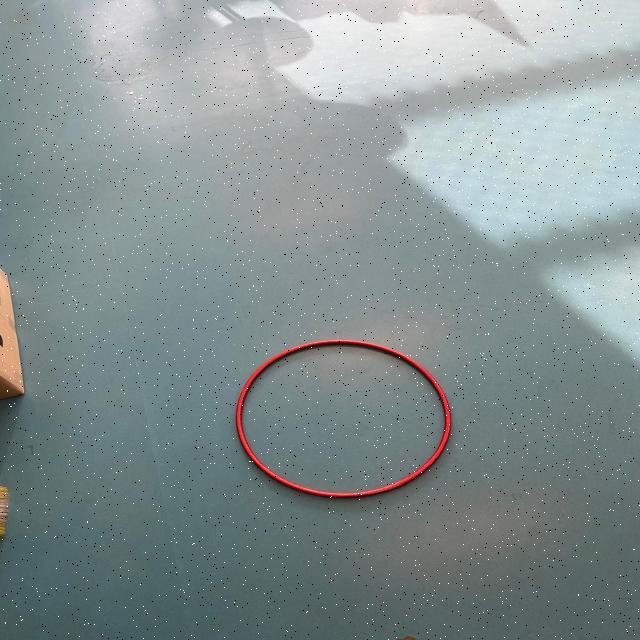Circle: (230, 330, 464, 504)
